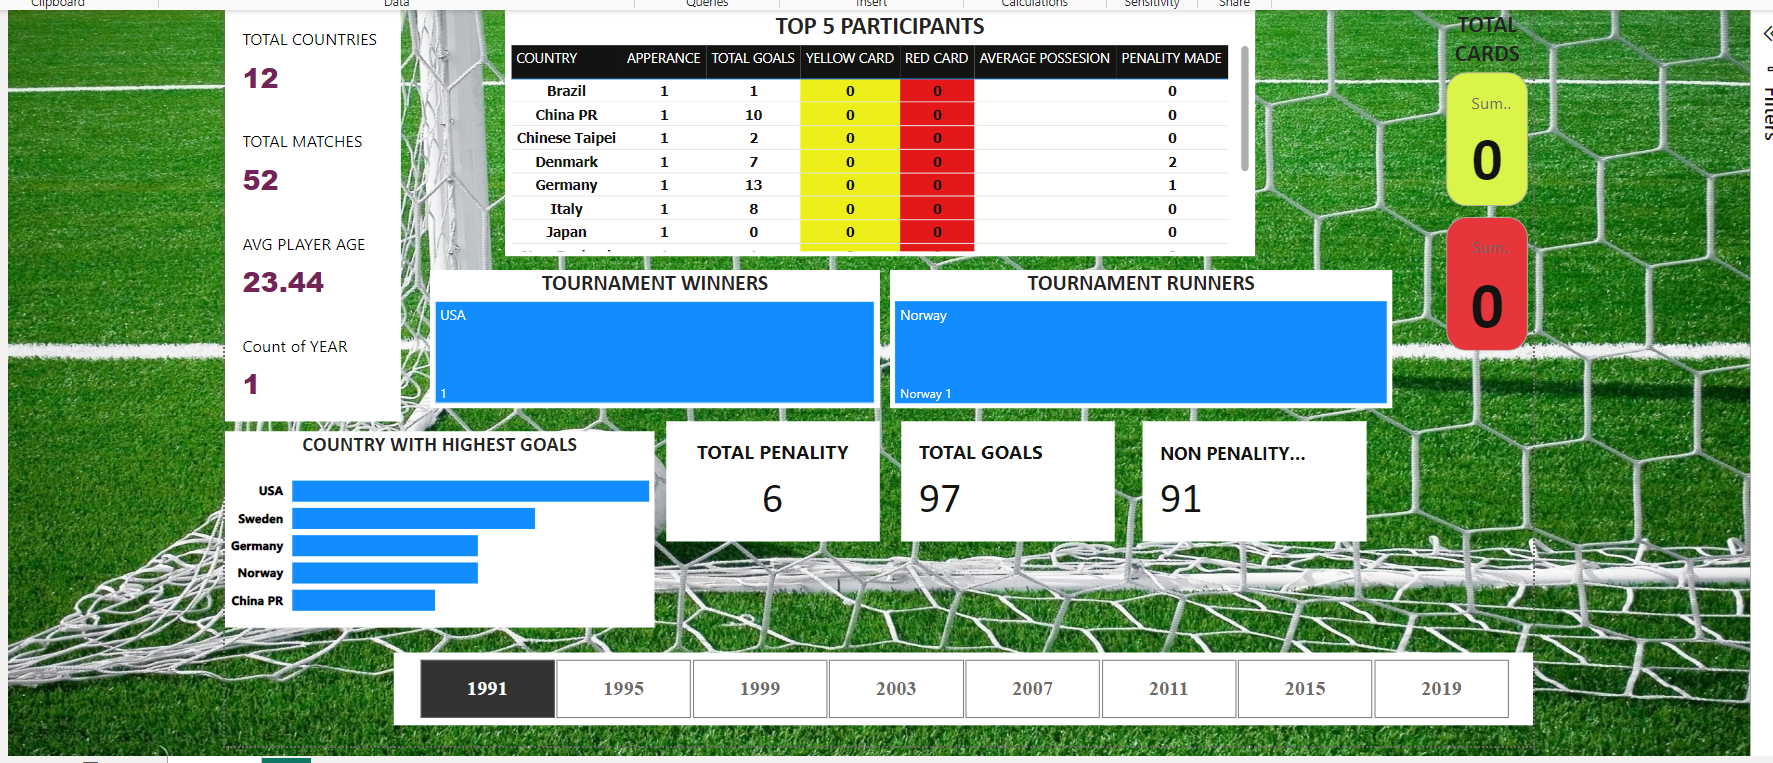

The page's visual inventory and layout, read from the dashboard file:
{"tool":"powerbi","page":{"name":"Page 1","canvas":[1280,720],"ordinal":0},"visuals":[{"type":"slicer","fields":{"Values":["DATASET.year"]},"box":[165.6,627.8,1114.4,71.1],"z":0},{"type":"cardVisual","fields":{"Data":["Count(DATASET.squad)","Sum(DATASET.matches_played)","Avg(DATASET.age)","CountNonNull(WINNERS.YEAR)"]},"box":[0,0,172.2,402.2],"z":1000},{"type":"cardVisual","fields":{"Data":["Sum(DATASET.penalty_kicks_made)"]},"box":[431.1,402.2,208.9,117.8],"z":2000},{"type":"cardVisual","fields":{"Data":["Sum(DATASET.non_penalty_goals)"]},"box":[896.7,402.2,218.9,117.8],"z":3000},{"type":"cardVisual","fields":{"Data":["Sum(DATASET.goals)"]},"box":[661.1,402.2,208.9,117.8],"z":4000},{"type":"clusteredBarChart","title":"COUNTRY WITH HIGHEST GOALS","fields":{"Category":["DATASET.squad"],"Y":["Sum(DATASET.goals)"]},"box":[0,412.2,420,192.2],"z":5000},{"type":"cardVisual","title":"TOTAL CARDS","fields":{"Data":["Sum(DATASET.yellow_cards)","Sum(DATASET.red_cards)"]},"box":[1190,0,90,338.9],"z":6000},{"type":"treemap","title":"TOURNAMENT WINNERS","fields":{"Group":["WINNERS.CHAMPION"],"Values":["CountNonNull(WINNERS.CHAMPION)"]},"box":[200,254.4,440,135.6],"z":7000},{"type":"treemap","title":"TOURNAMENT RUNNERS","fields":{"Details":["WINNERS.RUNNER UP"],"Group":["WINNERS.RUNNER UP"],"Values":["CountNonNull(WINNERS.RUNNER UP)"]},"box":[650,254.4,491.1,135.6],"z":8000},{"type":"tableEx","title":"TOP 5 PARTICIPANTS","fields":{"Values":["DATASET.squad","DATASET.year","Sum(DATASET.goals)","Sum(DATASET.yellow_cards)","Sum(DATASET.red_cards)","Avg(DATASET.possesion)","Sum(DATASET.penalty_kicks_attempted)"]},"box":[273.3,0,733.3,241.1],"z":9000}]}

Visuals, with their boxes in screenshot pixels (x1, y1, x2, y2):
slicer - DATASET.year: 390 646 1553 720
cardVisual - Count(DATASET.squad) x Sum(DATASET.matches_played): 217 0 397 410
cardVisual - Sum(DATASET.penalty_kicks_made): 667 410 885 533
cardVisual - Sum(DATASET.non_penalty_goals): 1153 410 1381 533
cardVisual - Sum(DATASET.goals): 907 410 1125 533
"COUNTRY WITH HIGHEST GOALS" clusteredBarChart: 217 421 655 621
"TOTAL CARDS" cardVisual: 1459 0 1553 344
"TOURNAMENT WINNERS" treemap: 426 256 885 398
"TOURNAMENT RUNNERS" treemap: 895 256 1408 398
"TOP 5 PARTICIPANTS" tableEx: 502 0 1267 242
